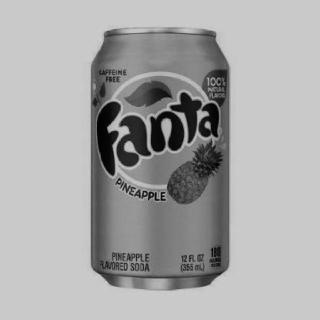alumunium_can: (90, 25, 232, 287)
